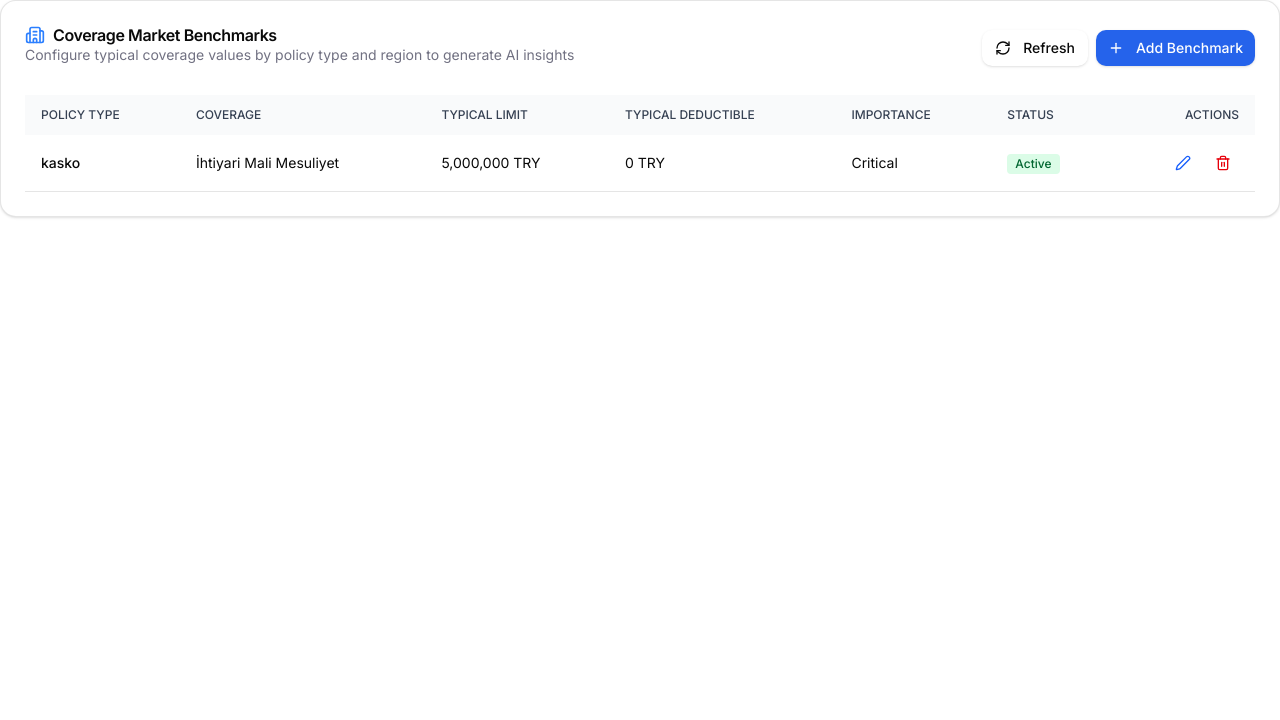
Test: MarketBenchmarksPanel › opens add benchmark form
Click the button "Add Benchmark": click(1176, 48) [1096,30,1255,66]
(page scrolled)
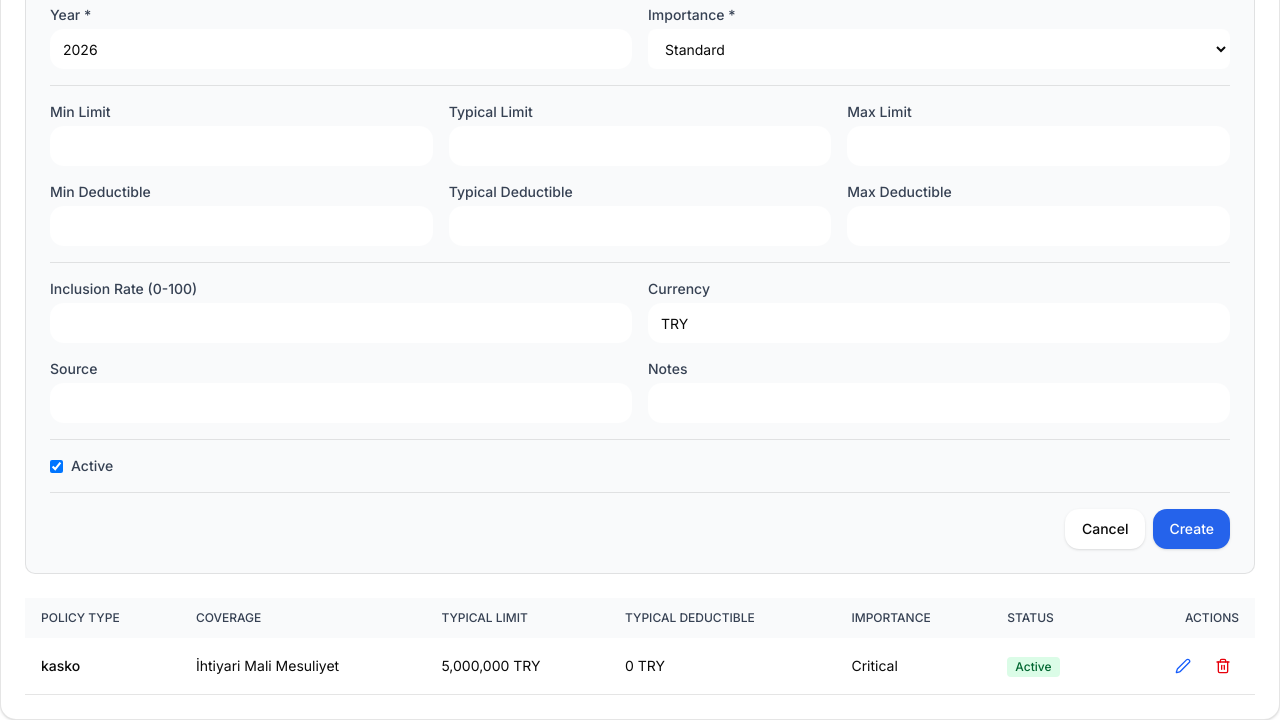
expect the button "Create" is shown: met, box [1153,509,1230,549]
